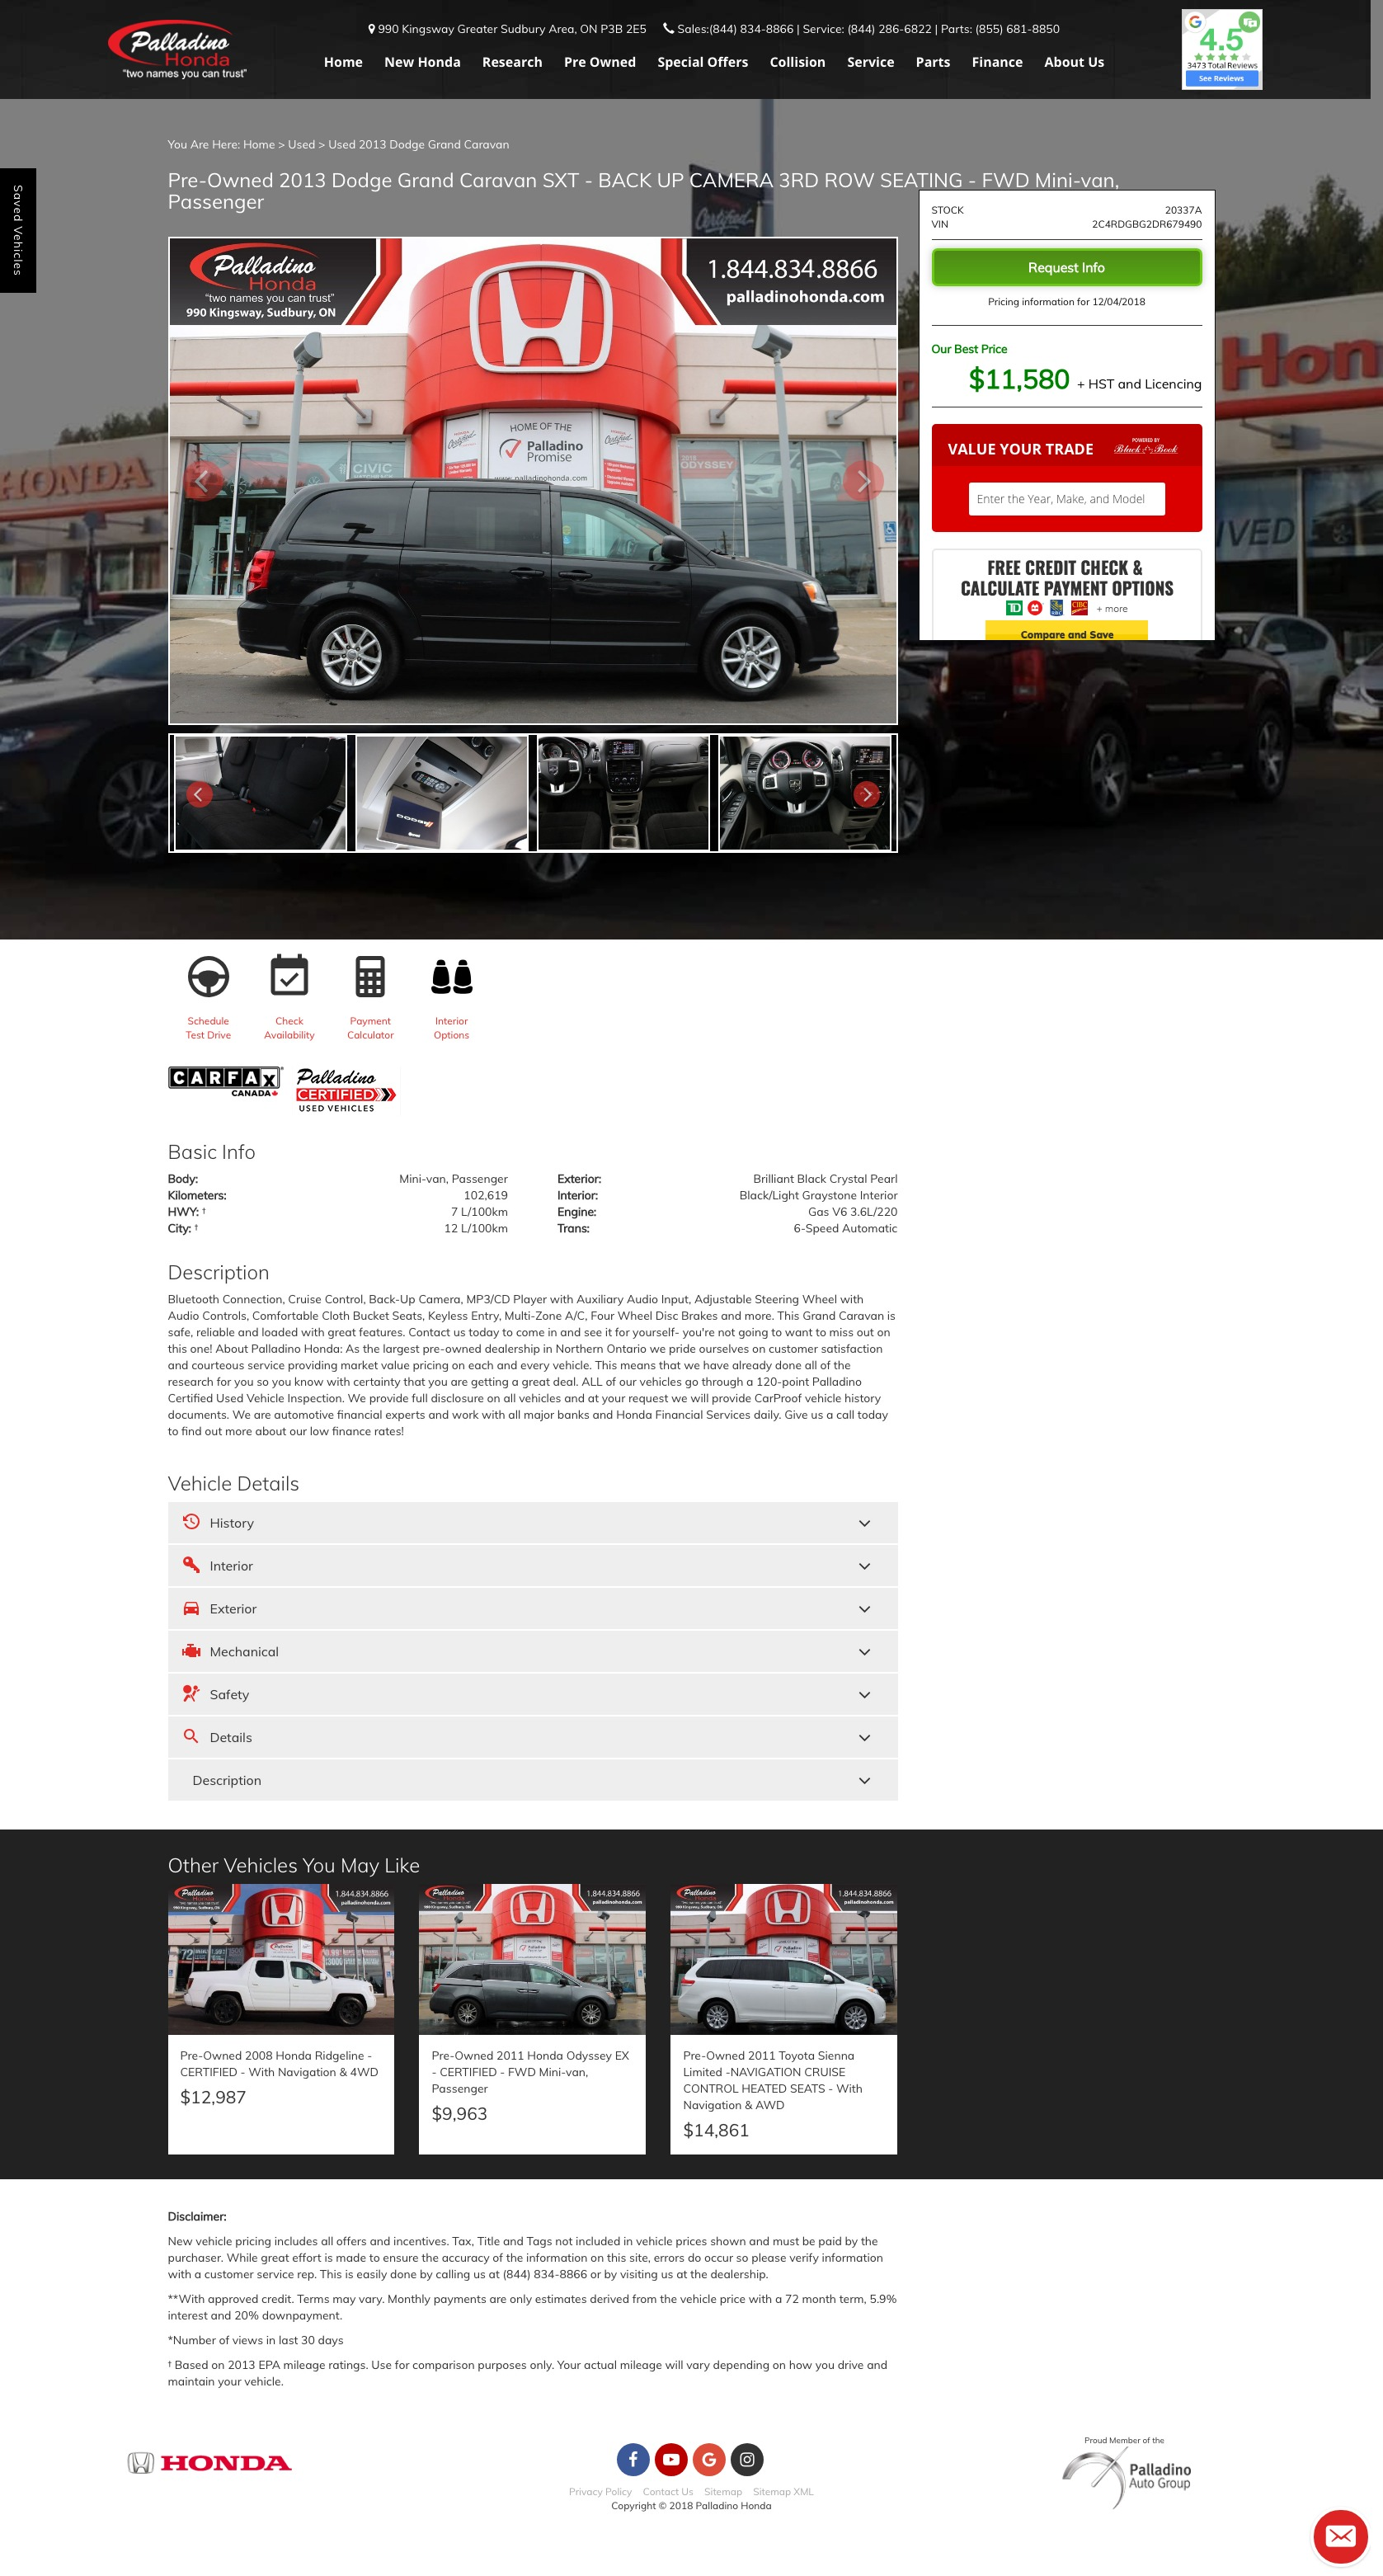car: (862, 789, 874, 802)
